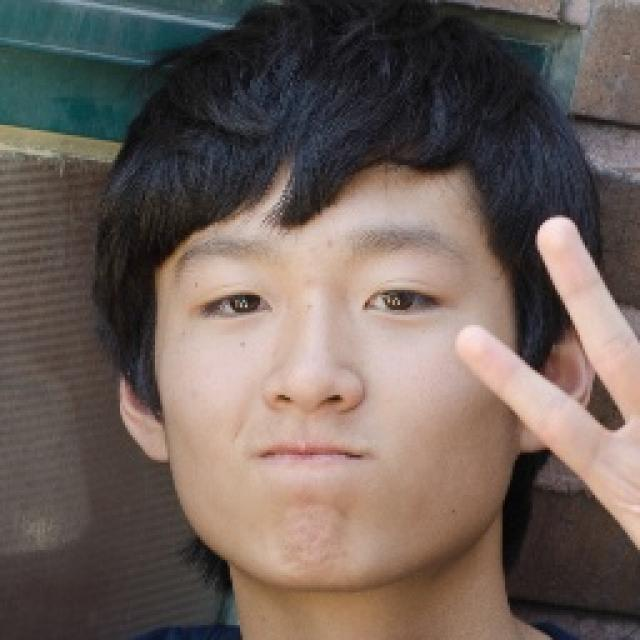earlobe: (138, 414, 171, 463)
eye: (364, 288, 439, 317), (194, 293, 271, 319)
nose: (254, 387, 364, 440)
